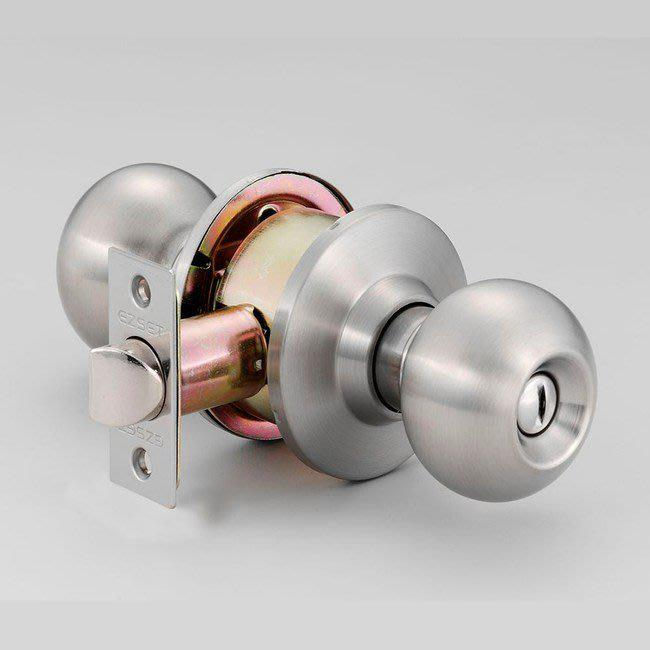doorhandle: (239, 205, 630, 526)
